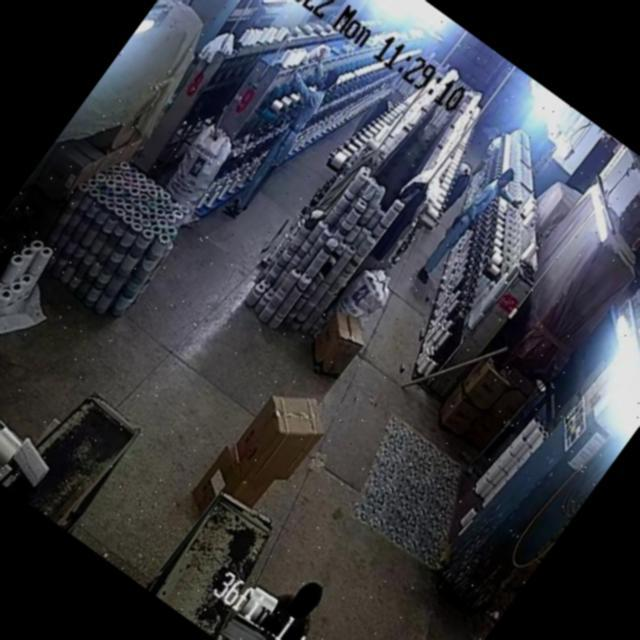person: (223, 65, 344, 219), (418, 162, 518, 286), (243, 577, 338, 640)
